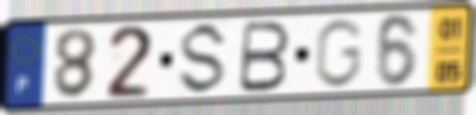2: (105, 22, 157, 101)
6: (372, 12, 425, 90)
8: (52, 26, 98, 102)
B: (236, 19, 293, 95)
G: (310, 16, 367, 91)
S: (175, 20, 232, 98)
